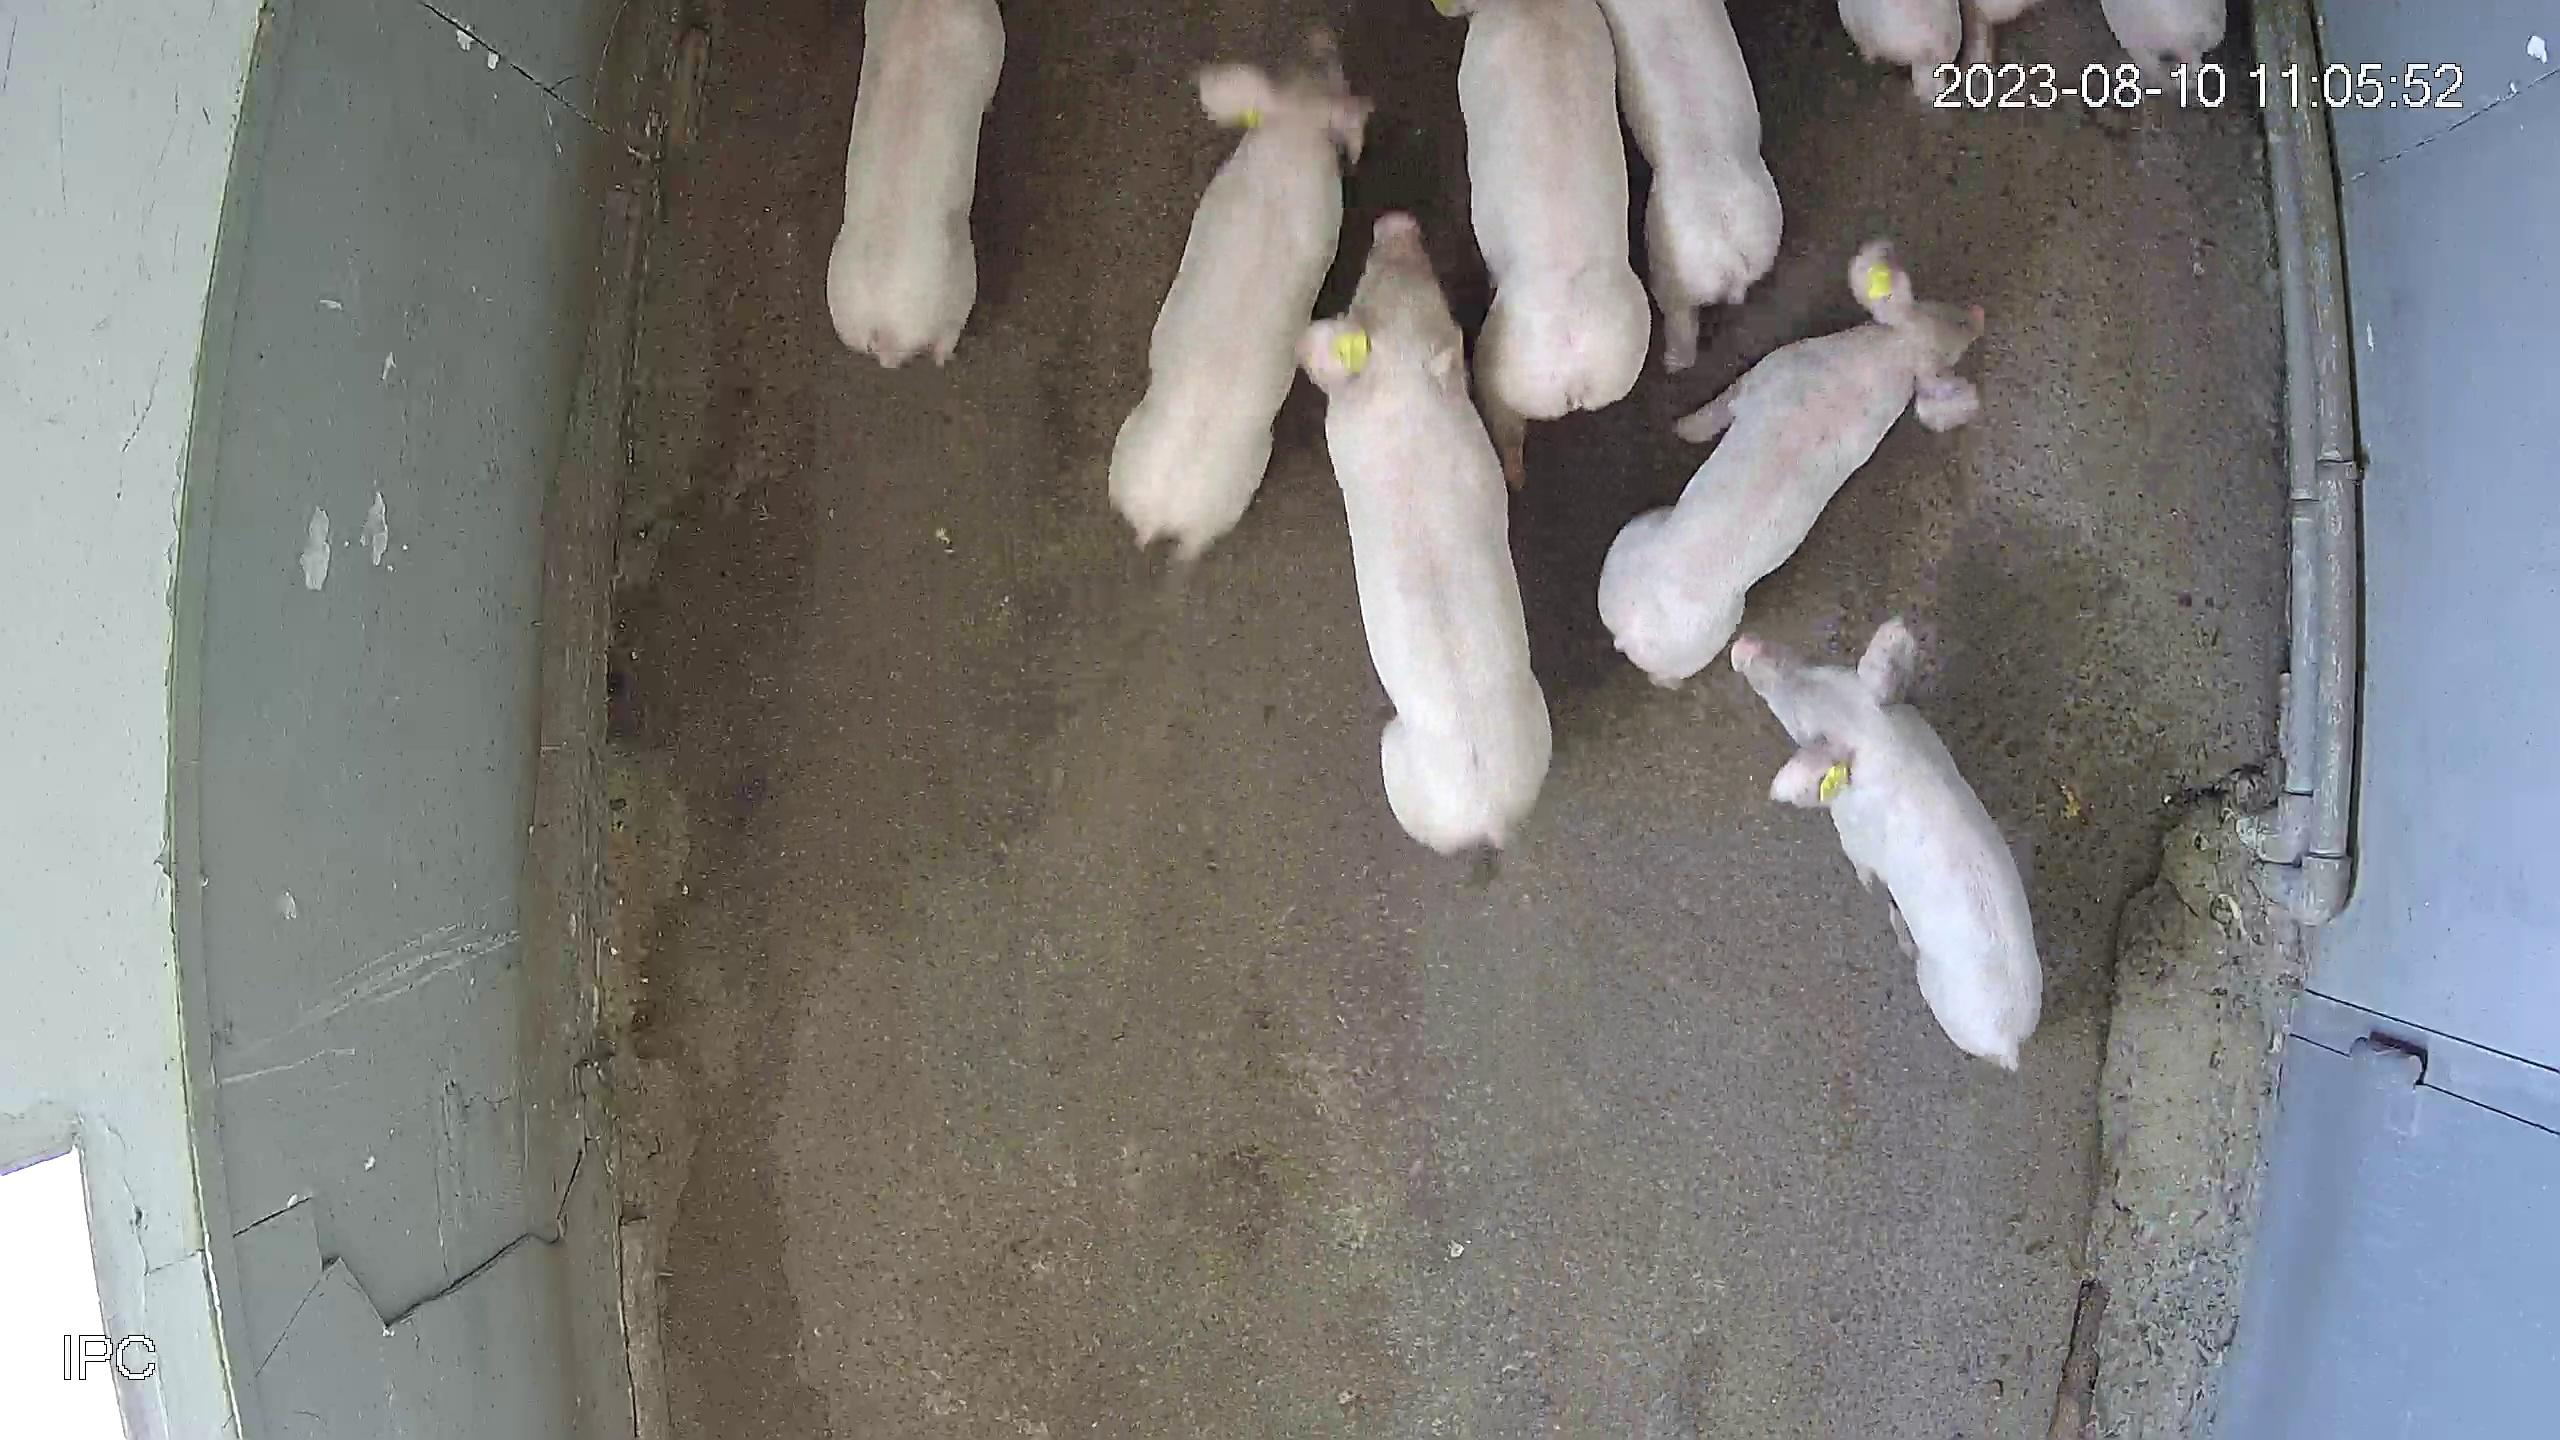Pig: (1600, 236, 1989, 684), (1298, 209, 1553, 851), (1108, 26, 1373, 563), (1734, 617, 2047, 1069), (1444, 0, 1651, 487), (1602, 0, 1785, 367), (826, 0, 1006, 364), (1841, 0, 1966, 97), (2105, 0, 2229, 83)
